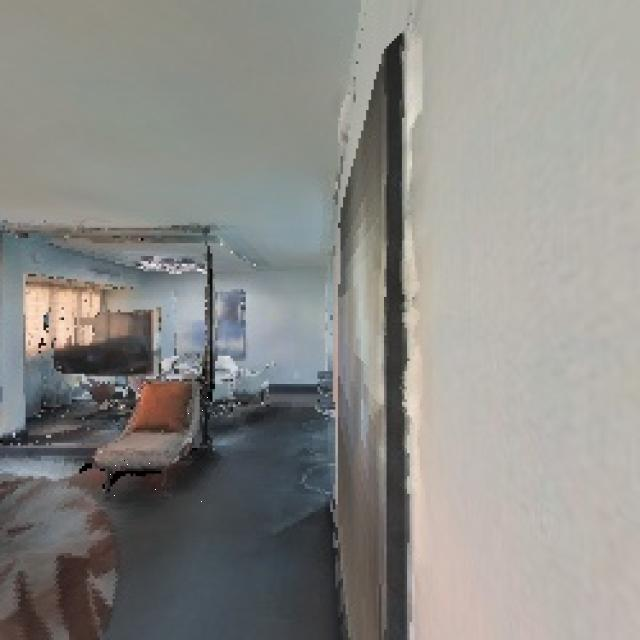sofa: (94, 361, 221, 505)
